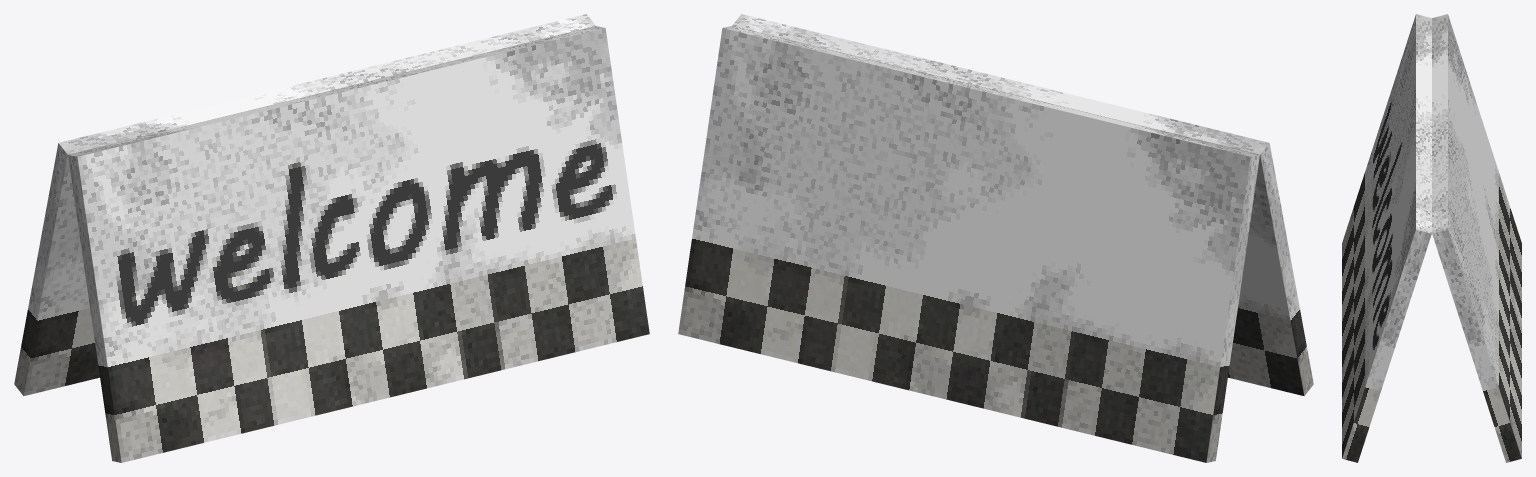
The model's file is psx_welcome_sign.glb.
The picture shows the model from 3 angles, left to right: view 1: azimuth 30°, elevation 25°; view 2: azimuth 150°, elevation 25°; view 3: azimuth 270°, elevation 25°; orthographic projection. The views are drawn at different scales.
Parts seen in each view (by area): view 1: front_0, back_1; view 2: back_1, front_0; view 3: front_0, back_1.
Boxes of the visible parts, x1,y1,x2,y2 form: front_0: (68, 26, 649, 462); back_1: (14, 14, 595, 395); back_1: (678, 26, 1259, 462); front_0: (732, 14, 1313, 395); front_0: (1342, 14, 1431, 462); back_1: (1432, 14, 1521, 462).
Bounding box in the file's own units: 0.9688 × 0.4887 × 0.3412.
1 material, 1 textured.
